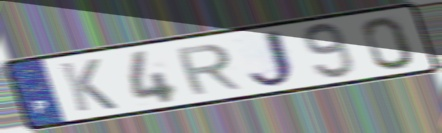0: (358, 14, 418, 71)
4: (127, 48, 181, 105)
9: (302, 19, 359, 83)
J: (245, 27, 303, 90)
K: (56, 57, 121, 114)
R: (172, 42, 245, 98)
